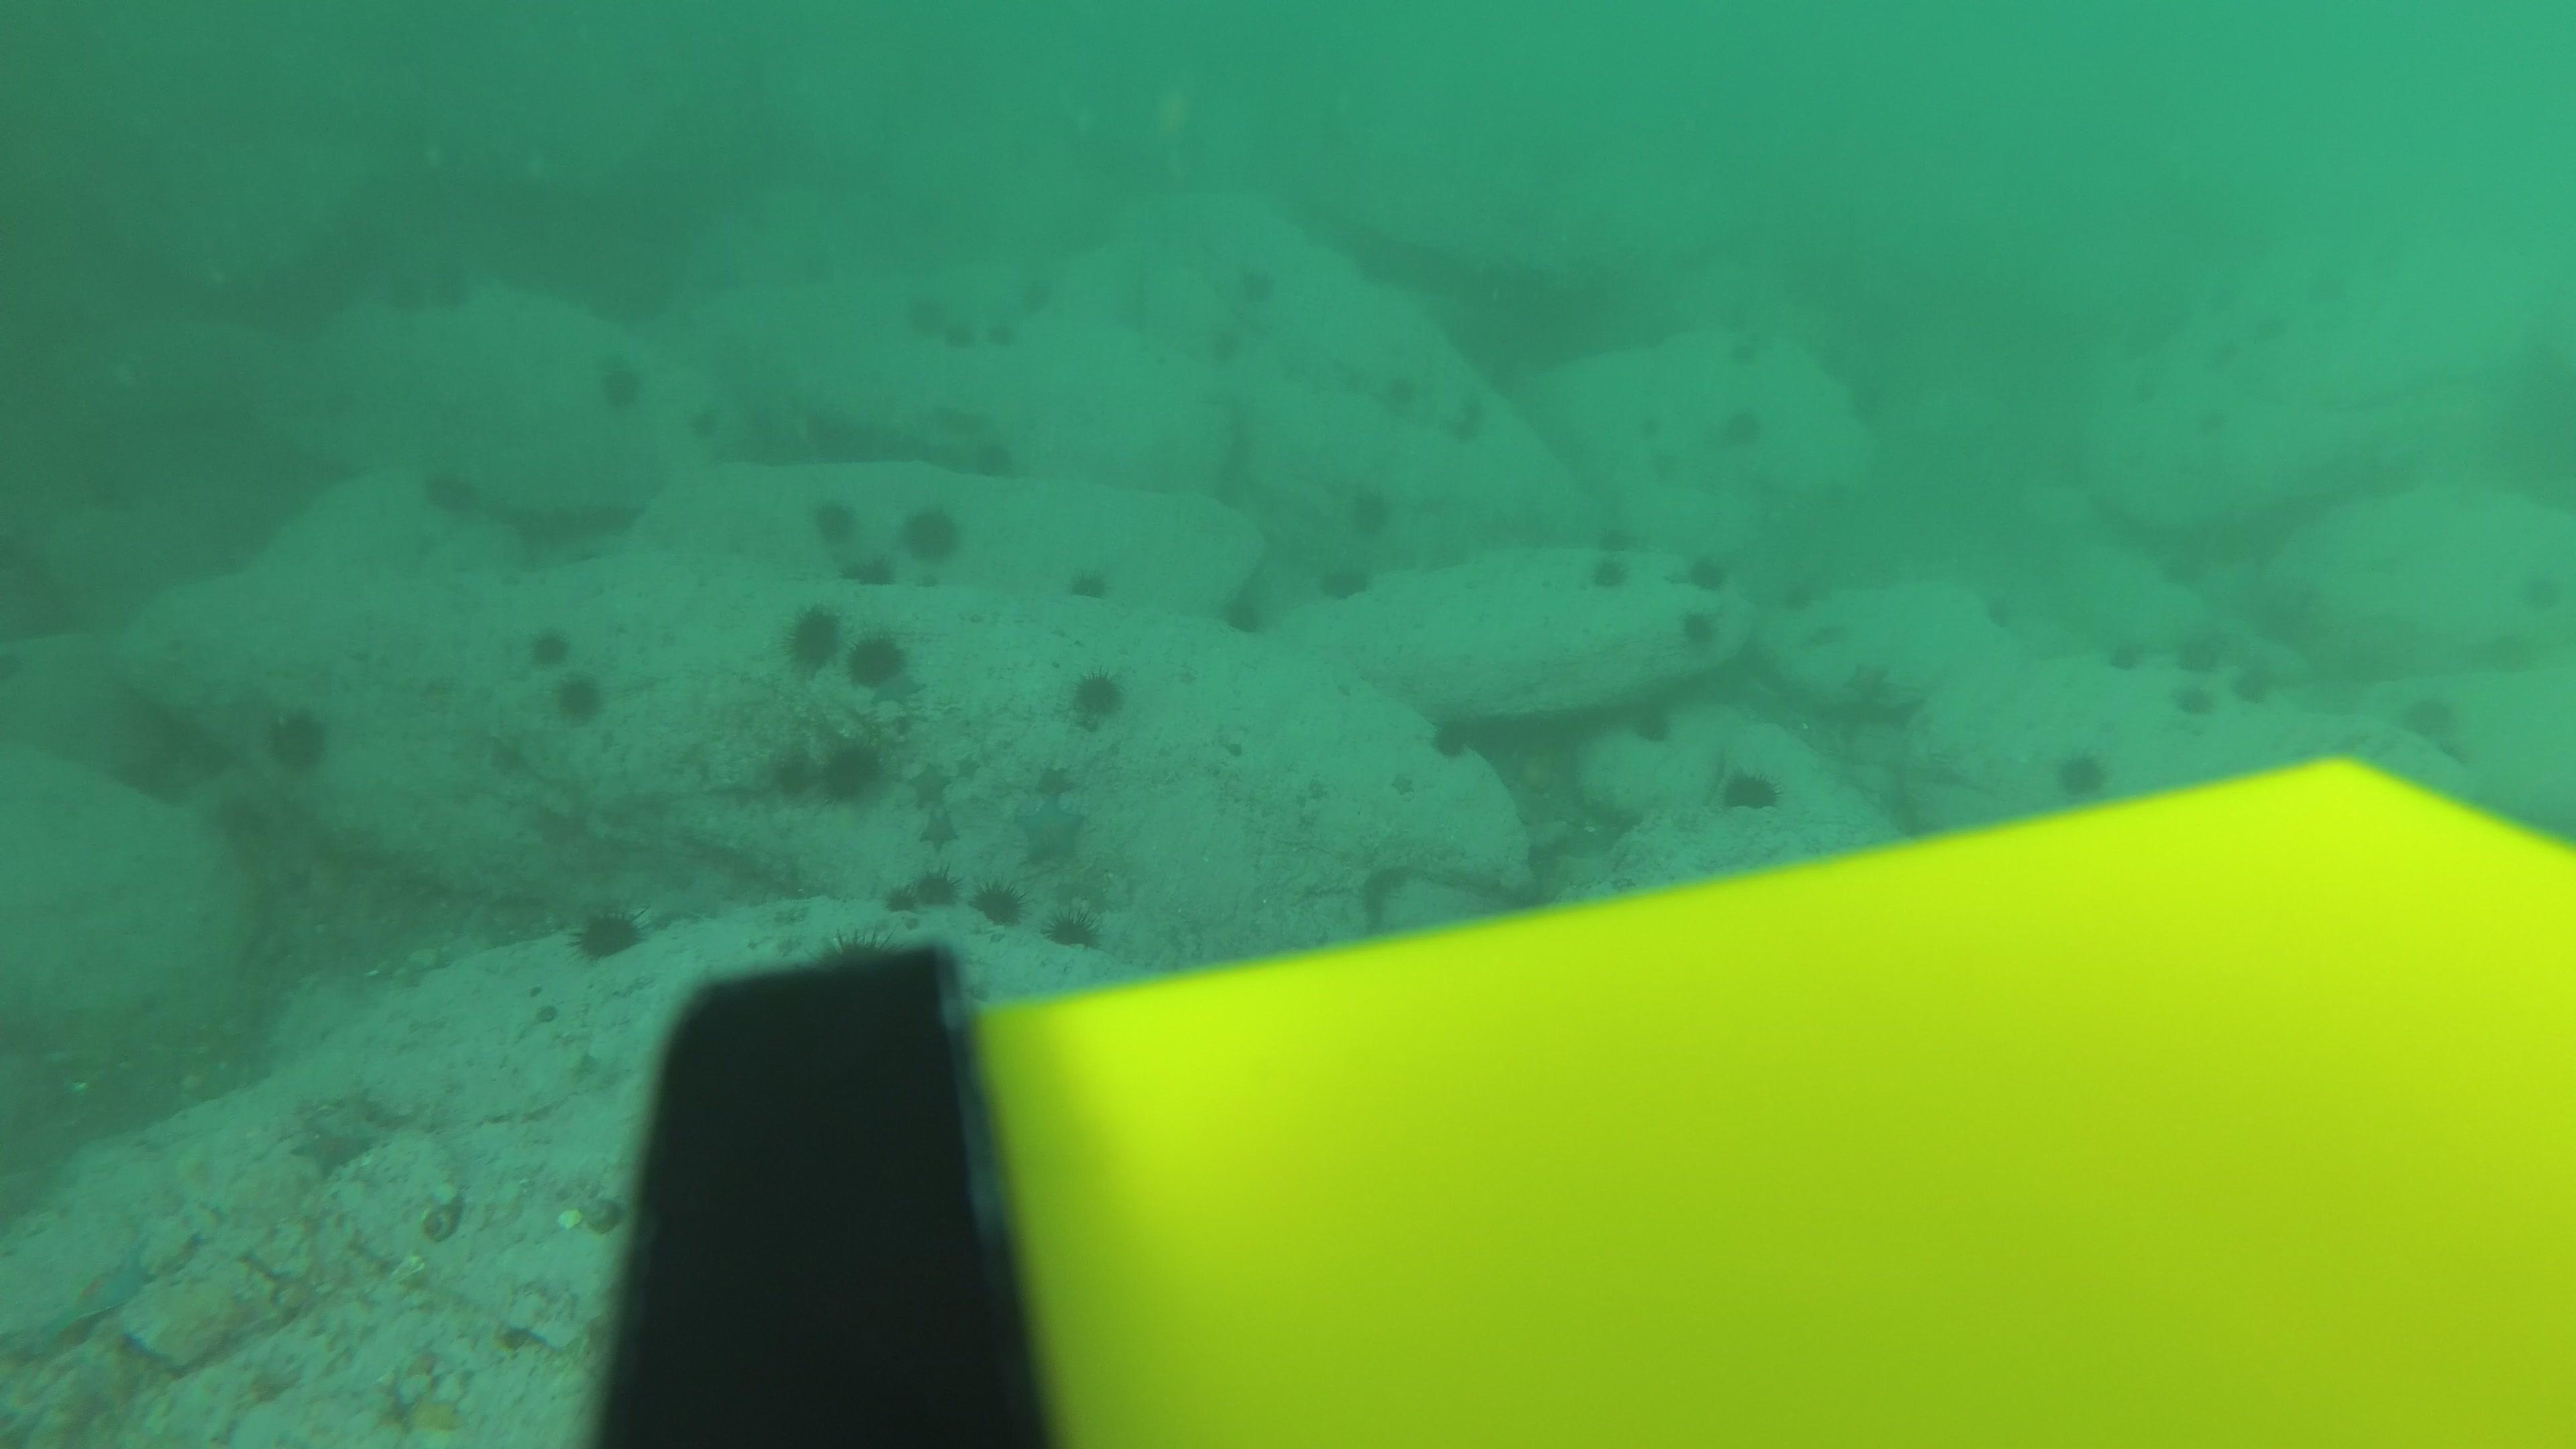echinus: (770, 738, 858, 803), (566, 897, 648, 966), (262, 701, 334, 775), (784, 602, 846, 674), (901, 499, 962, 566), (823, 743, 893, 801), (1716, 761, 1783, 817), (419, 460, 481, 520), (801, 241, 863, 301), (2051, 745, 2114, 803), (847, 630, 908, 690), (419, 262, 479, 322), (372, 272, 433, 331), (1069, 665, 1125, 725), (524, 621, 580, 679), (594, 352, 648, 414), (1426, 708, 1483, 764), (1217, 582, 1272, 639), (2220, 663, 2273, 720), (552, 671, 605, 725), (1631, 694, 1684, 748), (2484, 625, 2537, 679), (2167, 632, 2219, 688), (2155, 538, 2206, 594), (2265, 596, 2316, 653), (2169, 671, 2220, 725), (2098, 625, 2150, 679), (2401, 686, 2452, 741), (2514, 570, 2565, 625), (1346, 481, 1396, 538), (1044, 904, 1102, 952), (1316, 557, 1373, 605), (971, 442, 1031, 487), (973, 878, 1024, 929), (846, 547, 893, 600), (810, 494, 858, 545), (897, 294, 954, 336), (904, 867, 962, 908), (1583, 548, 1633, 596), (1591, 515, 1640, 563), (1008, 280, 1065, 320), (1681, 550, 1730, 594), (1677, 607, 1723, 653), (1065, 561, 1113, 603), (1721, 410, 1771, 449), (1723, 331, 1773, 370), (2298, 272, 2346, 311), (1845, 384, 1893, 423), (1812, 341, 1859, 380), (1624, 405, 1672, 444), (1642, 456, 1690, 495), (1808, 474, 1856, 513), (1454, 400, 1497, 439), (1983, 594, 2022, 635), (1207, 324, 1249, 361), (1233, 269, 1276, 306), (1378, 370, 1421, 407), (1444, 418, 1486, 455), (1476, 366, 1518, 403), (683, 407, 725, 444), (1780, 580, 1817, 621), (2192, 403, 2229, 442), (2206, 338, 2243, 377), (886, 879, 922, 918), (2123, 372, 2158, 410), (2256, 308, 2291, 347), (978, 317, 1023, 347), (939, 320, 977, 352)
holothurian: (1776, 621, 1851, 651)
starfish: (11, 1240, 159, 1361), (285, 1108, 380, 1177), (1010, 791, 1090, 867), (133, 1214, 209, 1281), (380, 936, 449, 989), (909, 761, 957, 830), (1842, 658, 1902, 706), (915, 789, 961, 849), (1035, 757, 1079, 801), (1387, 764, 1431, 809)
